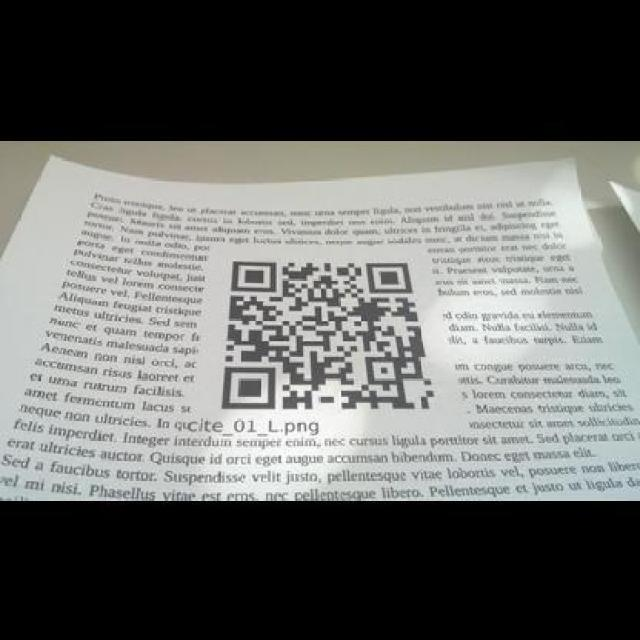QRCode: (214, 250, 438, 422)
